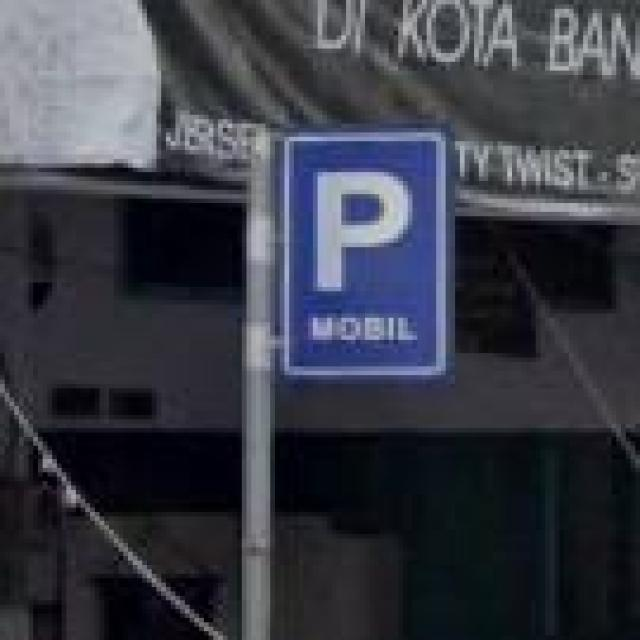traffic sign: (280, 128, 456, 380)
